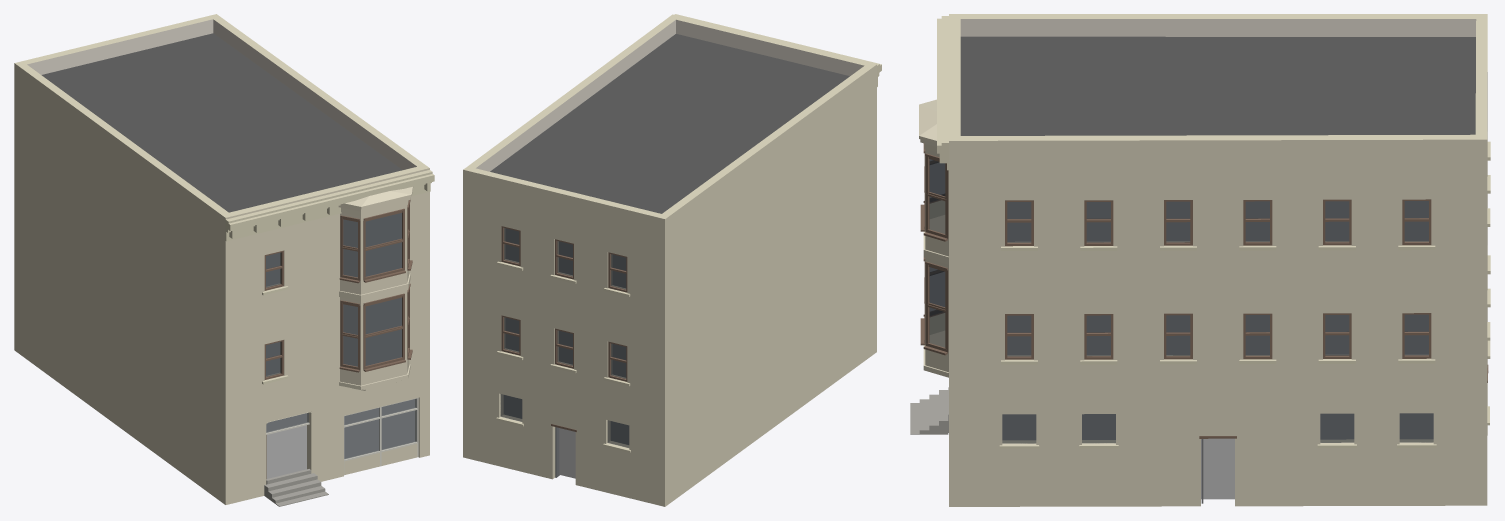
The model's file is exterior.glb.
3 renders of one model, left to right at view 1: azimuth 30°, elevation 25°; view 2: azimuth 150°, elevation 25°; view 3: azimuth 270°, elevation 25°, orthographic. The views are drawn at different scales.
Parts seen in each view (by area): view 1: shell, roof, shadow-proxy, bay-glazing-hyb, bay-windows-hyb, glazing, trim, storefront, hyC-arches-0, frames; view 2: shell, roof, glazing, shadow-proxy, frames, trim; view 3: shell, roof, shadow-proxy, glazing, frames, trim, bay-glazing-hyb, bay-windows-hyb, hyC-arches-0.
Part boxes in pixels (<box>): shell: <box>14,14,429,504</box>; roof: <box>41,33,402,212</box>; shadow-proxy: <box>266,213,414,478</box>; bay-glazing-hyb: <box>339,199,412,372</box>; bay-windows-hyb: <box>338,187,413,390</box>; glazing: <box>266,252,416,459</box>; trim: <box>225,170,434,384</box>; storefront: <box>266,397,418,478</box>; hyC-arches-0: <box>264,412,328,506</box>; frames: <box>264,250,283,379</box>; shell: <box>463,14,876,506</box>; roof: <box>490,34,849,213</box>; glazing: <box>500,228,629,447</box>; shadow-proxy: <box>504,228,628,478</box>; frames: <box>501,226,627,381</box>; trim: <box>496,14,881,452</box>; shell: <box>949,14,1487,506</box>; roof: <box>960,36,1475,135</box>; shadow-proxy: <box>1002,201,1433,499</box>; glazing: <box>1002,201,1433,443</box>; frames: <box>1005,199,1431,359</box>; trim: <box>937,16,1490,448</box>; bay-glazing-hyb: <box>920,143,948,355</box>; bay-windows-hyb: <box>919,99,948,377</box>; hyC-arches-0: <box>910,387,948,434</box>.
Size of the model in its own units: 8.91 by 11.87 by 17.06.
